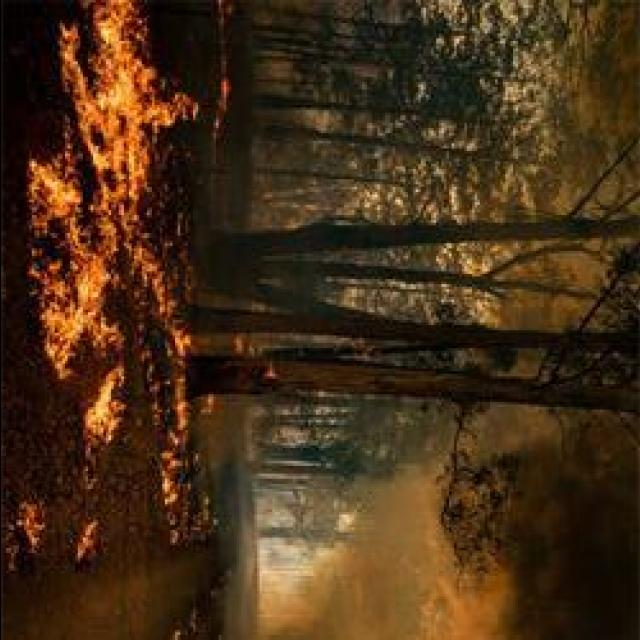fire: (59, 10, 172, 190), (28, 170, 118, 380)
smoke: (420, 540, 640, 640), (280, 554, 439, 640)
